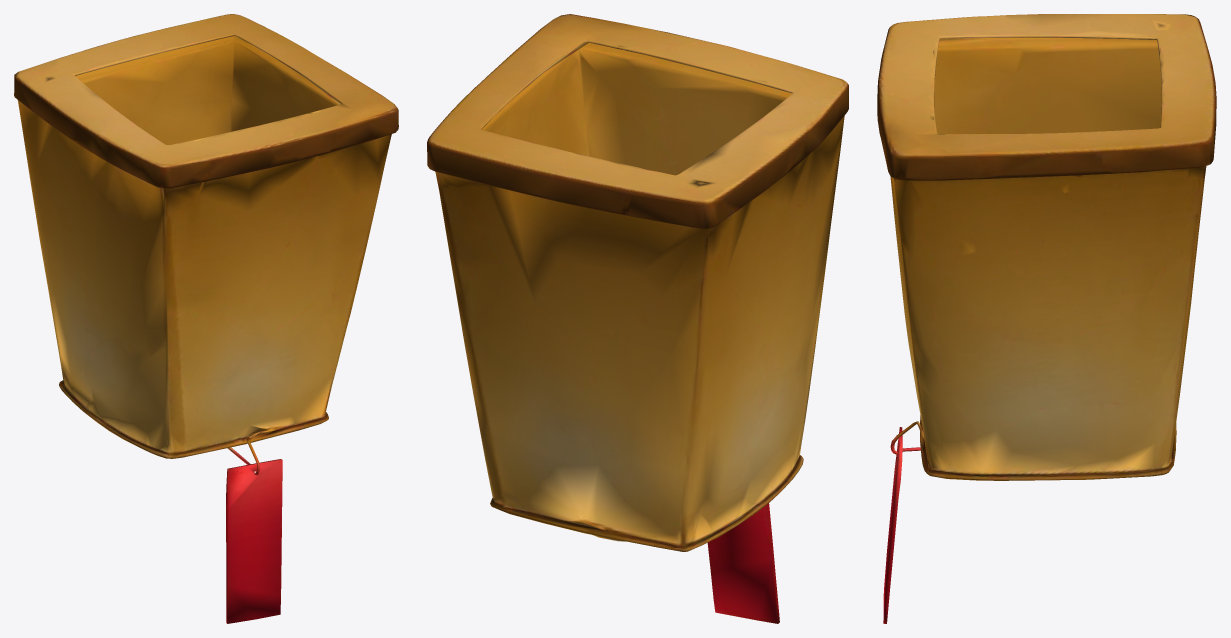
Rendered from lantern-web.glb.
3 views of the same model, side by side, from view 1: azimuth 30°, elevation 25°; view 2: azimuth 150°, elevation 25°; view 3: azimuth 270°, elevation 25° (orthographic). The views are drawn at different scales.
Parts seen in each view (by area): view 1: node_0; view 2: node_0; view 3: node_0.
Part boxes in pixels (left/top/right/bottom): node_0: left=14, top=14, right=398, bottom=623; node_0: left=427, top=14, right=848, bottom=623; node_0: left=877, top=14, right=1216, bottom=623.
Bounding box in the file's own units: 0.5539 × 0.9617 × 0.5496.
1 material, 1 textured.
